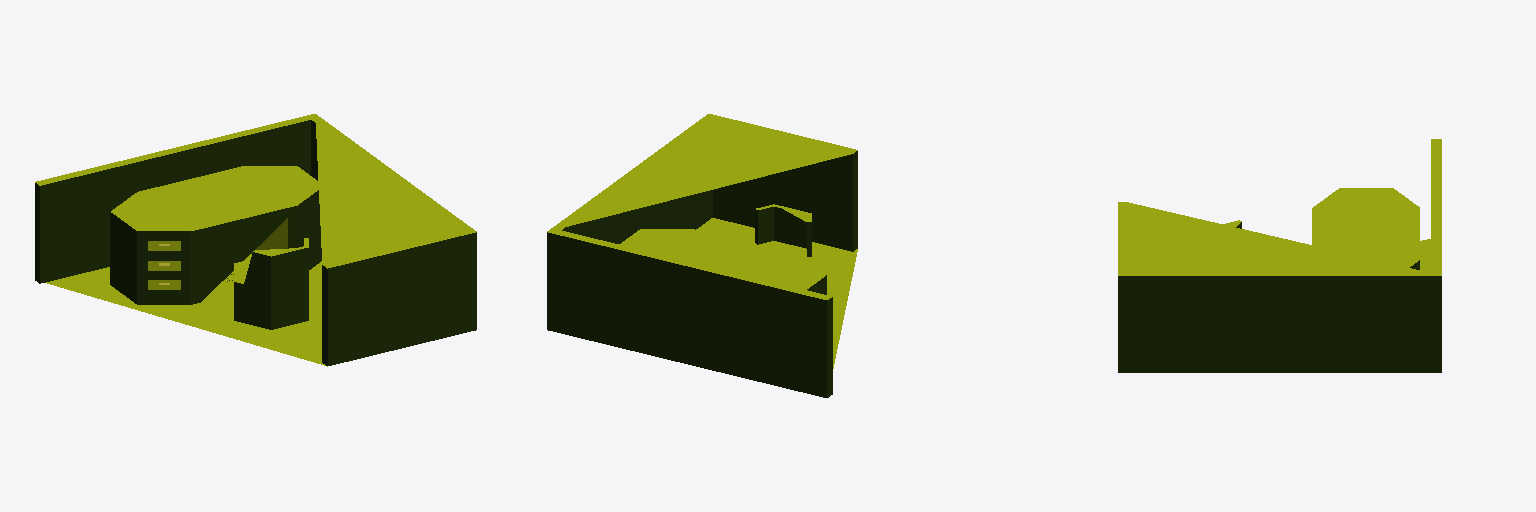
Rendered from desk.obj.
3 renders of one model, left to right at view 1: azimuth 30°, elevation 25°; view 2: azimuth 150°, elevation 25°; view 3: azimuth 270°, elevation 25°, orthographic.
Parts seen in each view (by area): view 1: Mesh2 Model, Mesh3 Model, Mesh1 Model; view 2: Mesh2 Model, Mesh3 Model, Mesh1 Model; view 3: Mesh2 Model, Mesh3 Model.
Boxes of the visible parts, <box> form: Mesh2 Model: <box>35,114,476,366</box>; Mesh3 Model: <box>110,166,321,304</box>; Mesh1 Model: <box>234,238,308,329</box>; Mesh2 Model: <box>547,114,857,397</box>; Mesh3 Model: <box>619,229,826,294</box>; Mesh1 Model: <box>754,204,811,262</box>; Mesh2 Model: <box>1118,139,1441,372</box>; Mesh3 Model: <box>1312,188,1419,269</box>.
Size of the model in its own units: 3 by 1 by 3.